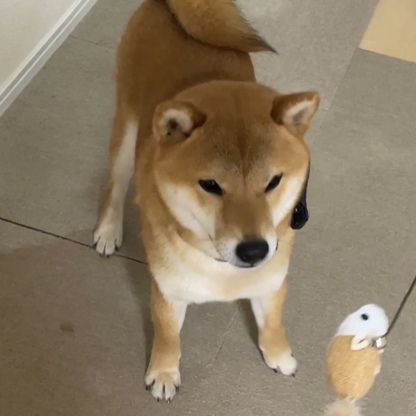shiba: (88, 1, 325, 404)
